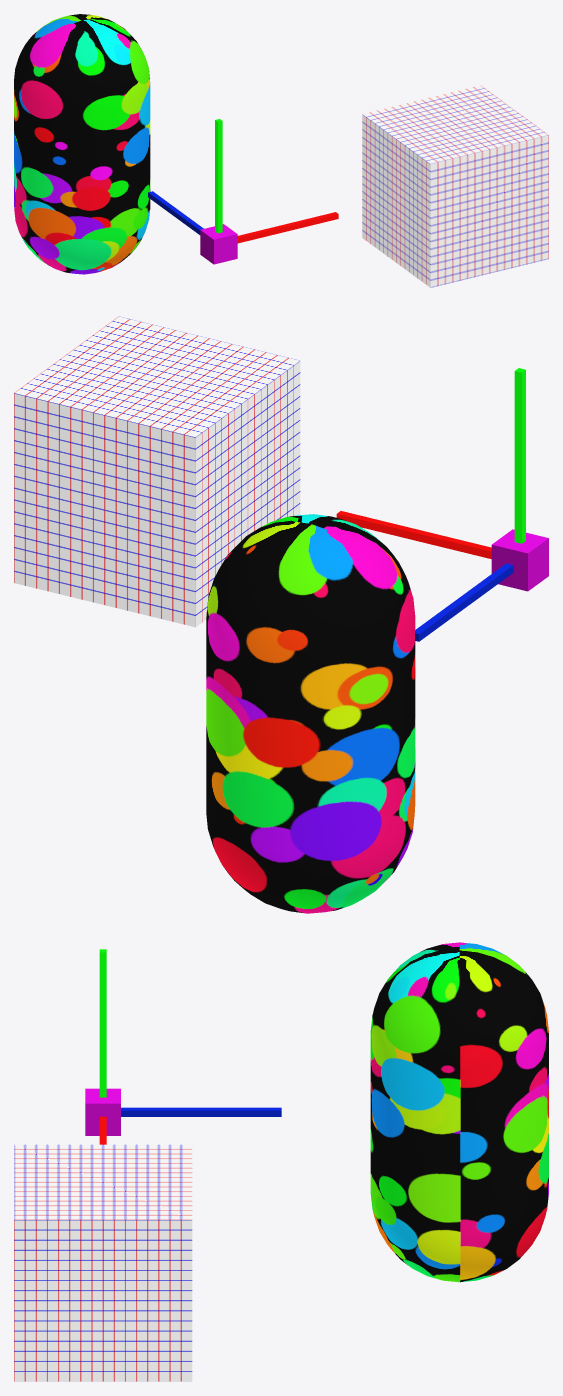
3 views of the same model, one above another, from view 1: azimuth 30°, elevation 25°; view 2: azimuth 150°, elevation 25°; view 3: azimuth 270°, elevation 25° (orthographic). The views are drawn at different scales.
Visible parts, largest first — view 1: Capsule, Cube, center, y, x, z; view 2: Capsule, Cube, center, y, x, z; view 3: Capsule, Cube, z, center, y.
Boxes of the visible parts, box(x1,y1,x2,y2) form: Capsule: box(14, 14, 150, 274); Cube: box(362, 85, 548, 287); center: box(200, 224, 237, 264); y: box(215, 119, 222, 233); x: box(237, 212, 338, 243); z: box(148, 191, 203, 234); Capsule: box(206, 514, 415, 913); Cube: box(14, 316, 300, 627); center: box(491, 529, 548, 591); y: box(514, 368, 525, 543); x: box(336, 511, 491, 558); z: box(415, 563, 513, 641); Capsule: box(370, 942, 548, 1282); Cube: box(14, 1144, 192, 1381); z: box(121, 1107, 281, 1116); center: box(85, 1088, 120, 1135); y: box(99, 949, 106, 1097).
Size of the model in its own units: 1.5 by 1 by 1.5.
6 materials, 2 textured.
